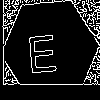E: (25, 25, 59, 74)
